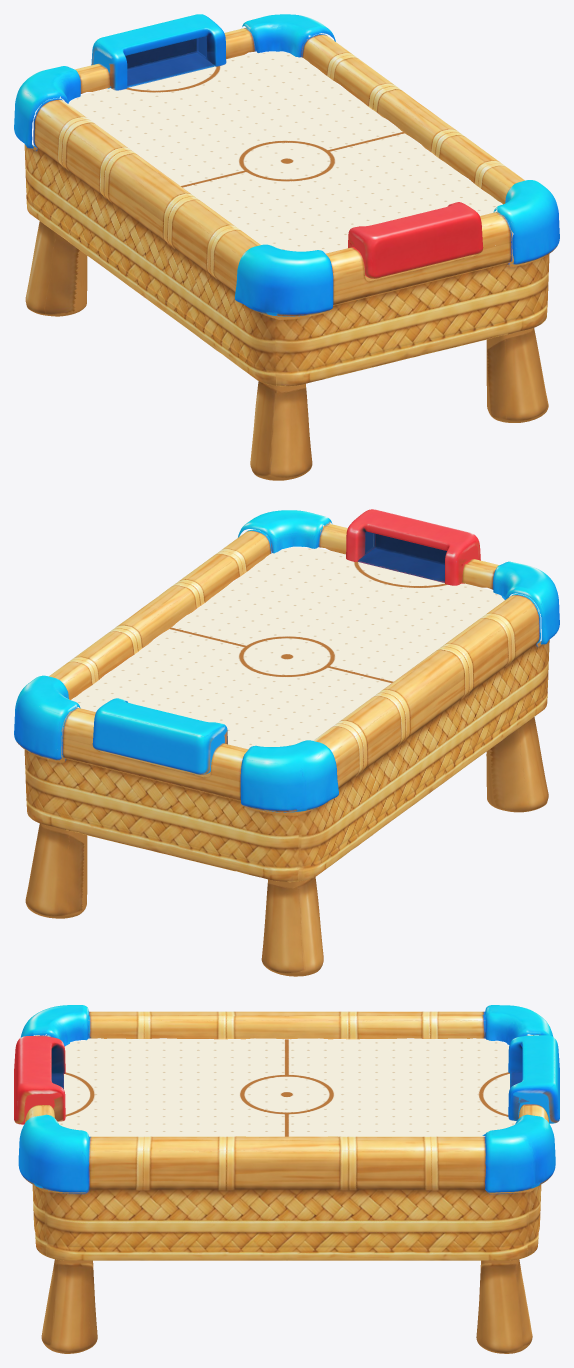
File: table-dimsum.glb
3 renders of one model, top to bottom at view 1: azimuth 30°, elevation 25°; view 2: azimuth 150°, elevation 25°; view 3: azimuth 270°, elevation 25°, orthographic. The views are drawn at different scales.
Parts seen in each view (by area): view 1: table; view 2: table; view 3: table.
Part boxes in pixels (x1,y1,x2,y2): table: (14, 14, 559, 480); table: (14, 509, 559, 976); table: (14, 1005, 559, 1353).
Bounding box in the file's own units: 7.88 × 5.68 × 12.31.
Materials: 2 (2 with a texture image).
